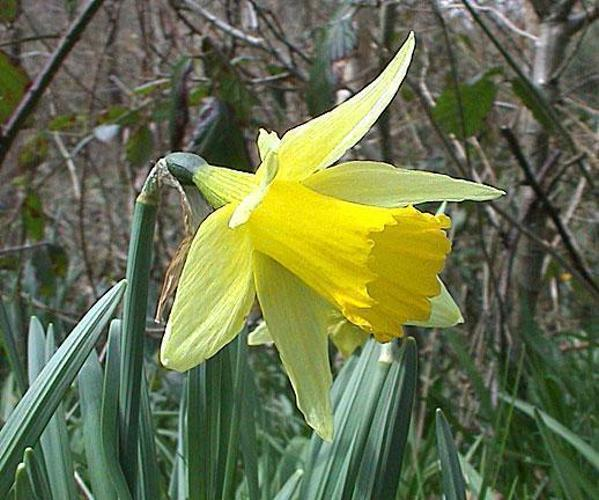flower1: (159, 30, 507, 445)
